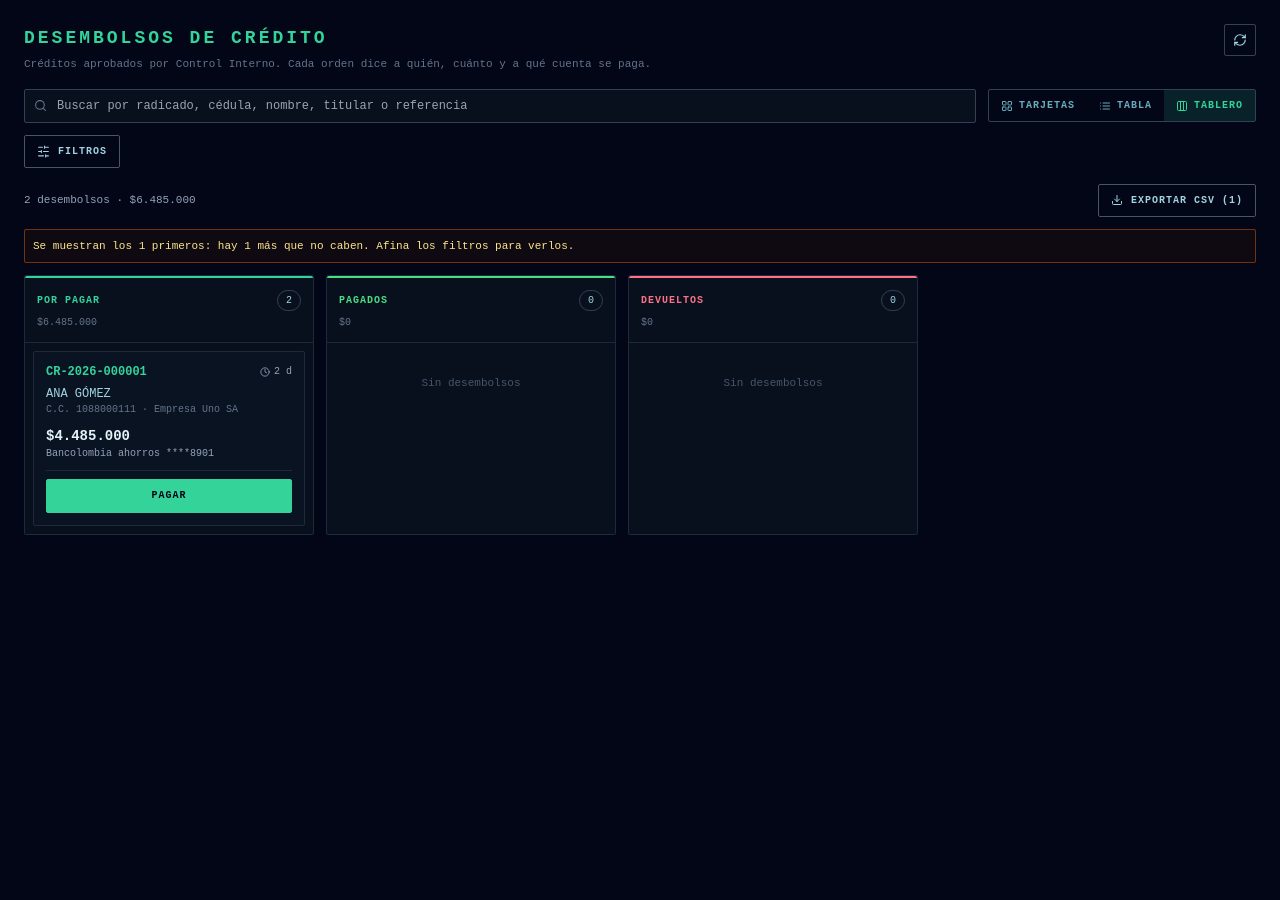
Tesorería — vistas › desde el tablero también se puede pagar
The image size is (1280, 900).
Step 1. Click the button with aria-label "Pagar CR-2026-000001" → (169, 496), box left=46, top=479, right=292, bottom=513
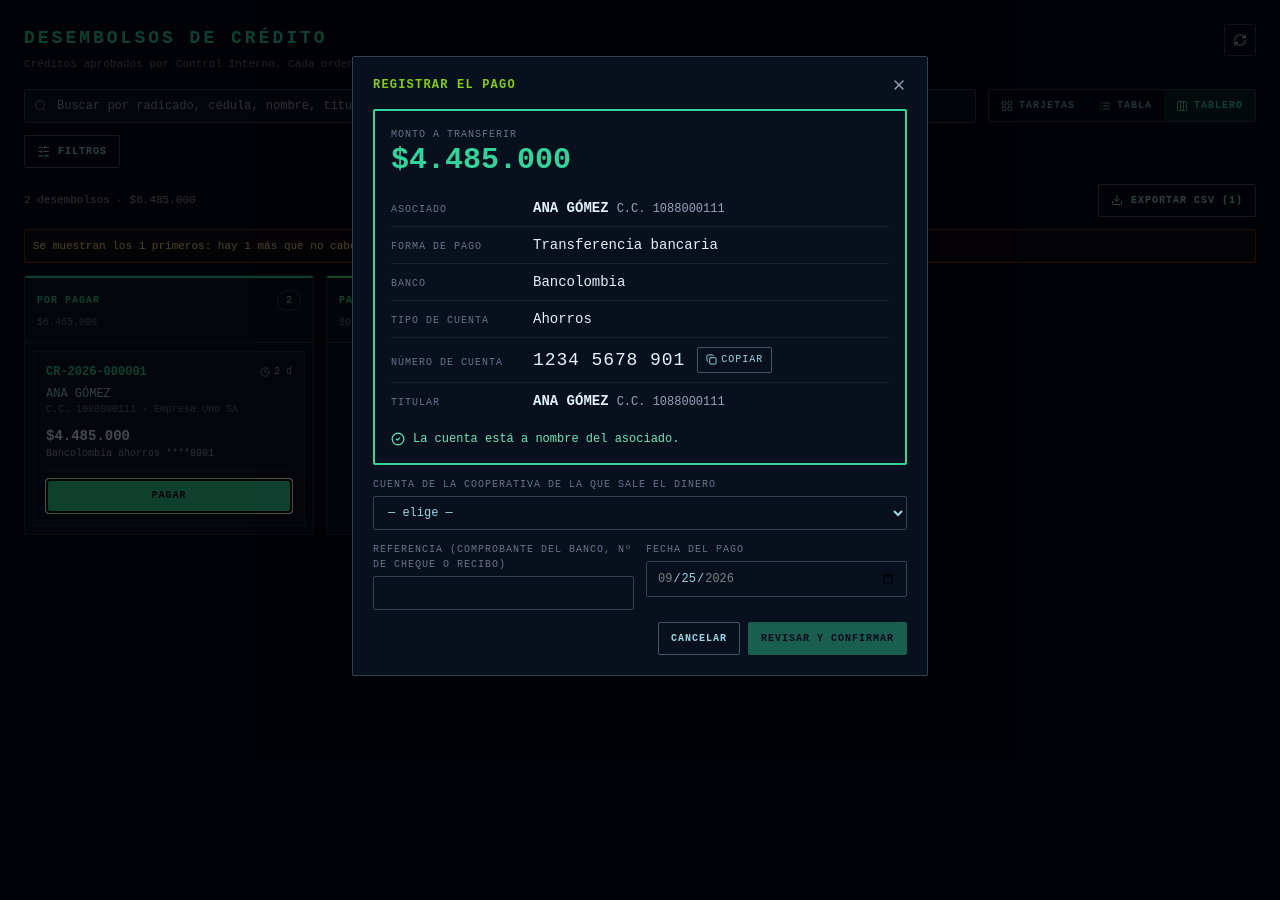
Now the dialog "REGISTRAR EL PAGO" is shown
